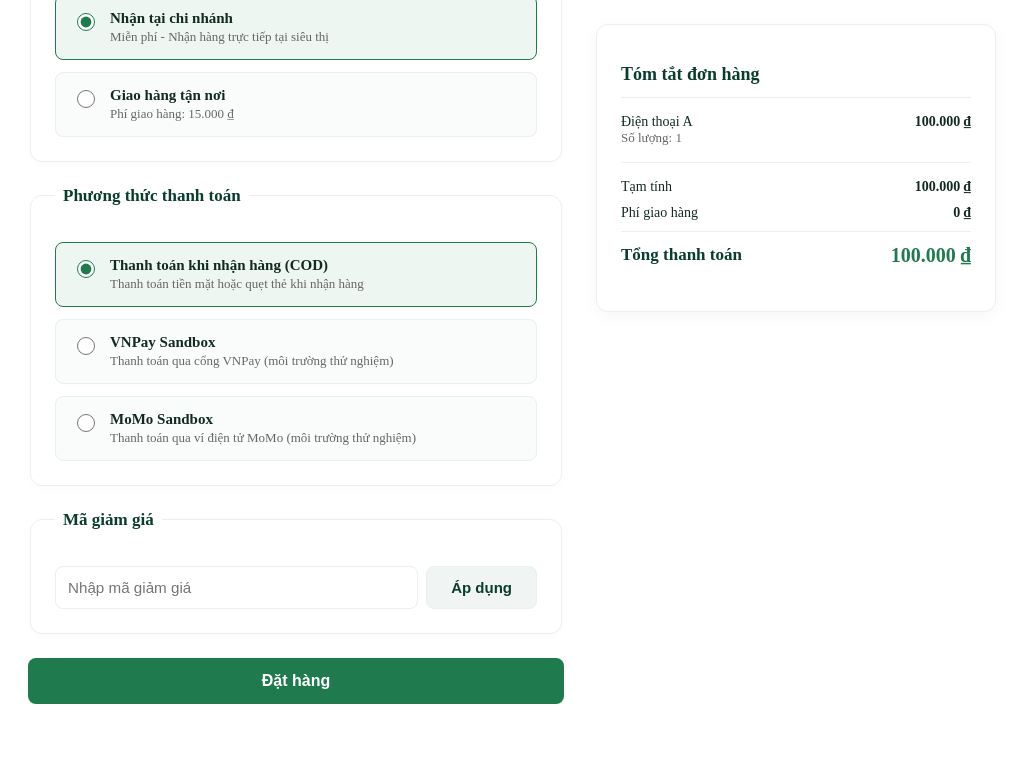
Scenario: CheckoutPage › shows cart empty error and links back to cart
(page scrolled)
Click the button "Đặt hàng" at (296, 681), box [28,658,564,704]
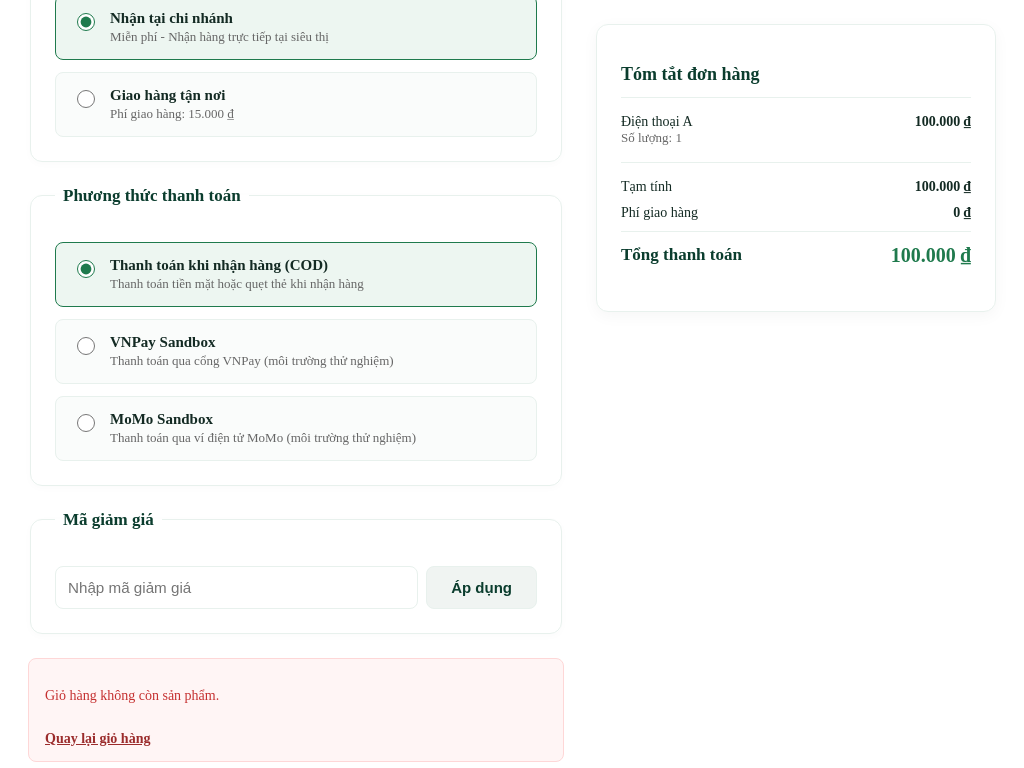
Expected: the message shows "Giỏ hàng không còn sản phẩm.", [45,688,219,703]
